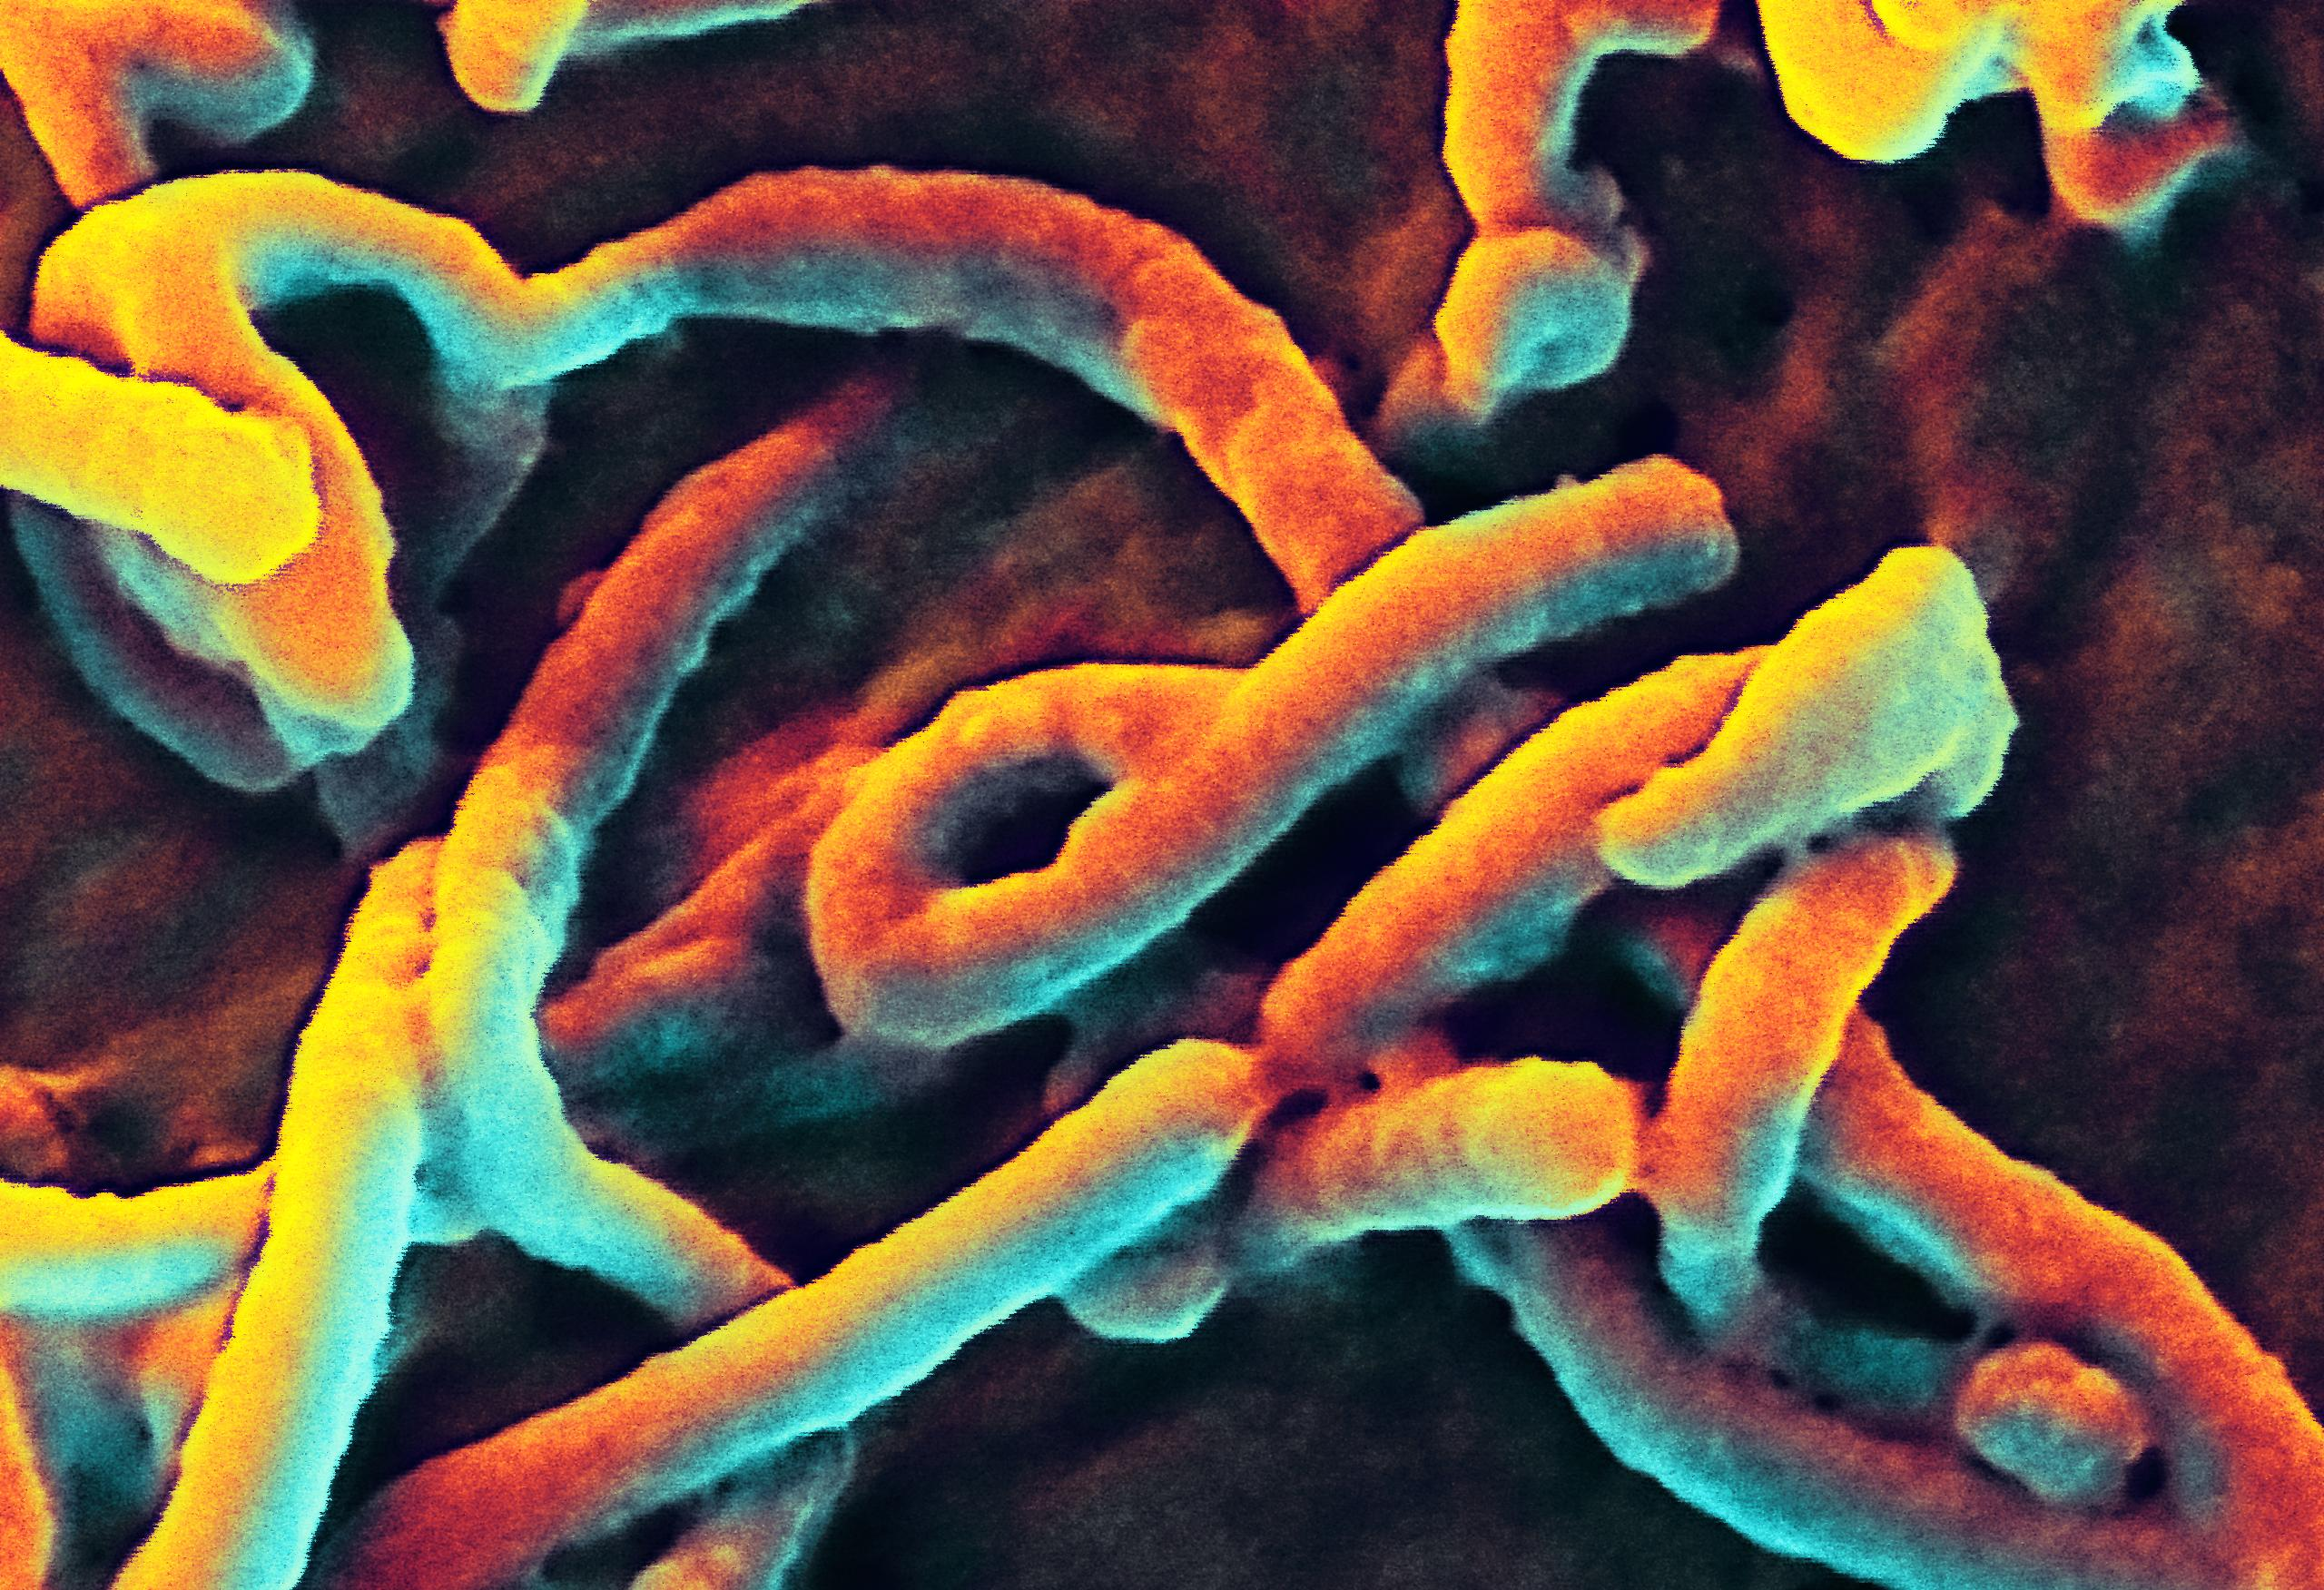EBOLA: (148, 124, 2177, 1565)
